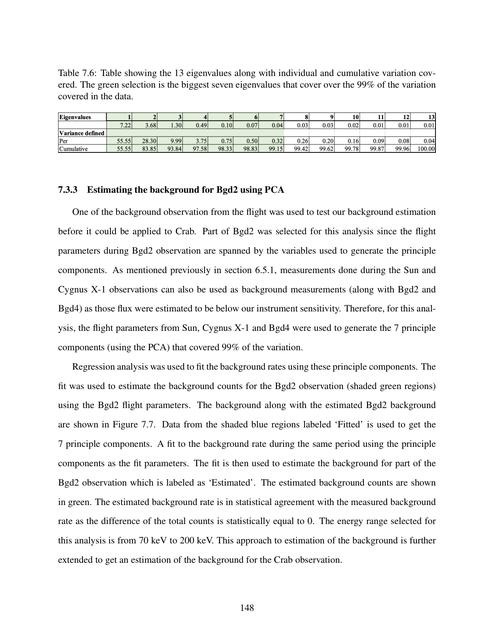box: (57, 110, 438, 154)
